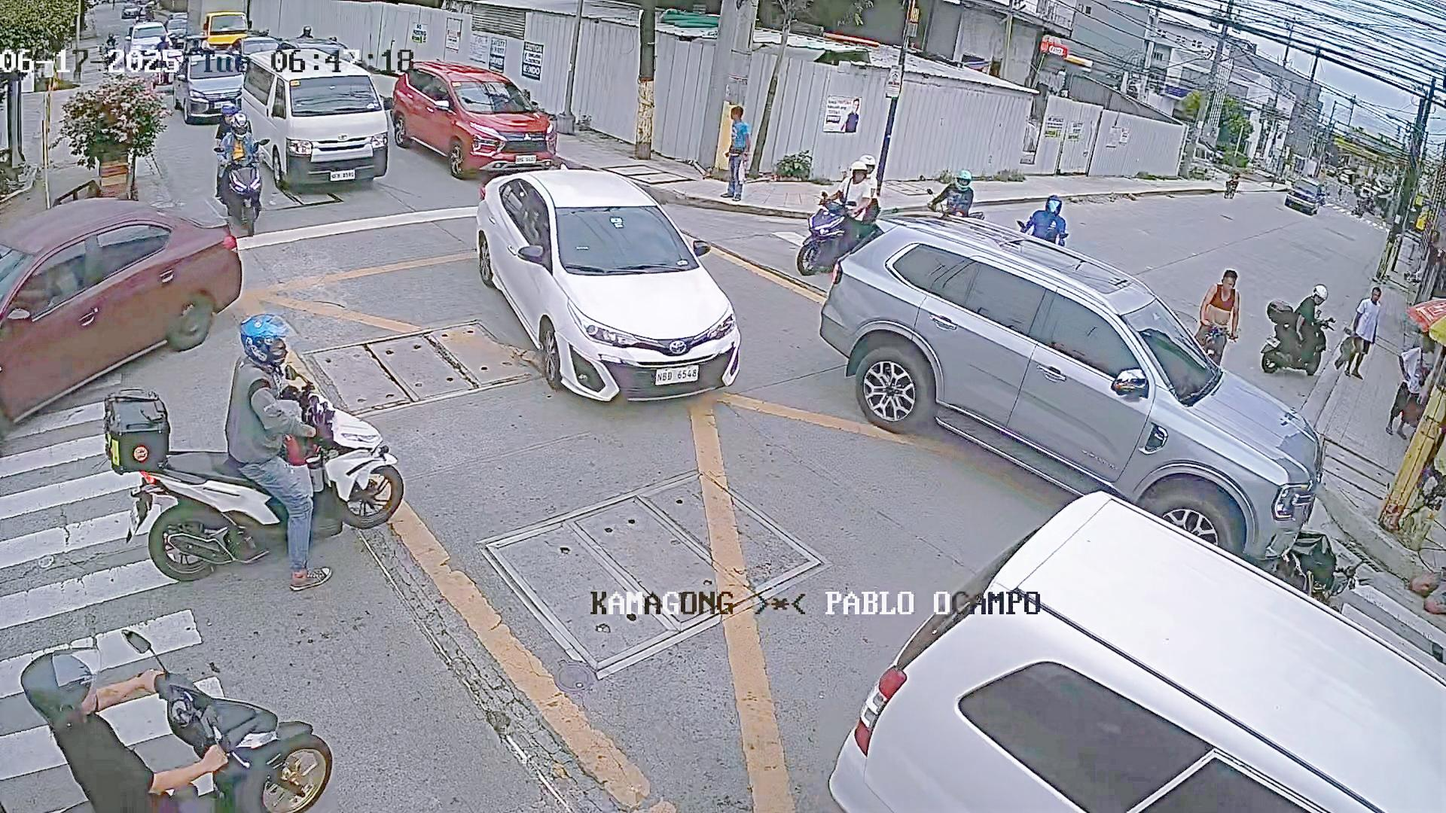Car: (767, 500, 1426, 813), (831, 207, 1280, 566), (450, 163, 776, 417), (368, 47, 600, 179), (243, 39, 419, 198)
Motor: (74, 314, 416, 535), (0, 604, 368, 807), (794, 134, 896, 291), (1247, 505, 1386, 617), (189, 103, 283, 229), (1265, 273, 1334, 404)
